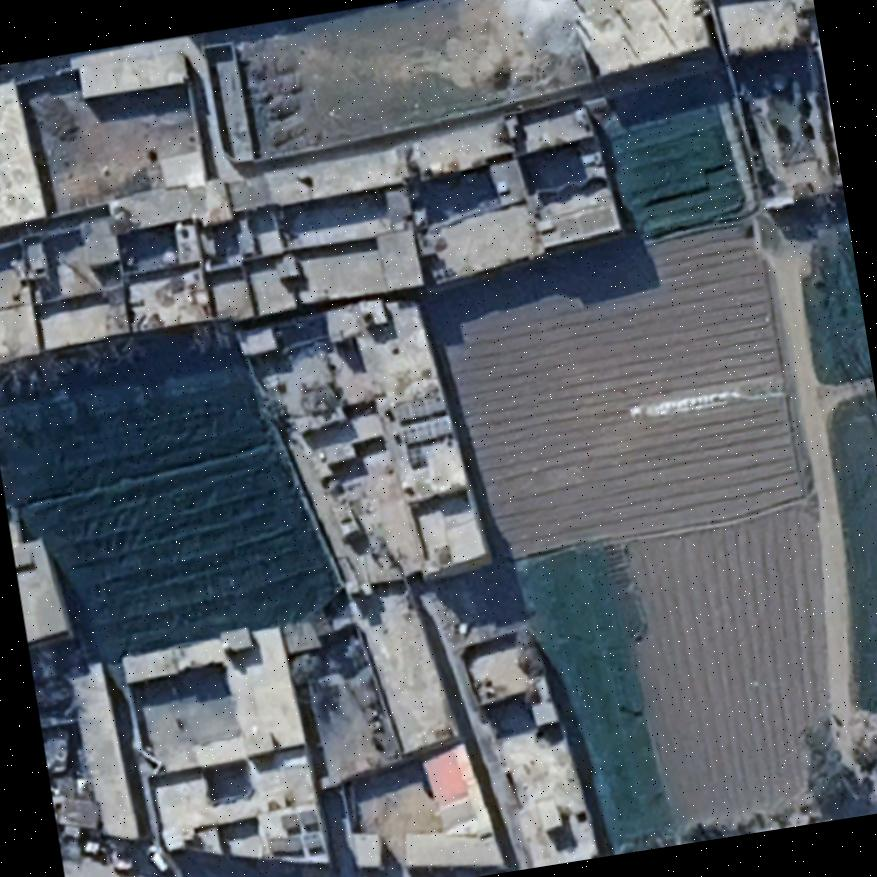Solarpanel: (388, 387, 450, 426), (396, 414, 454, 448), (267, 832, 327, 855), (281, 804, 315, 831), (403, 442, 430, 471)
